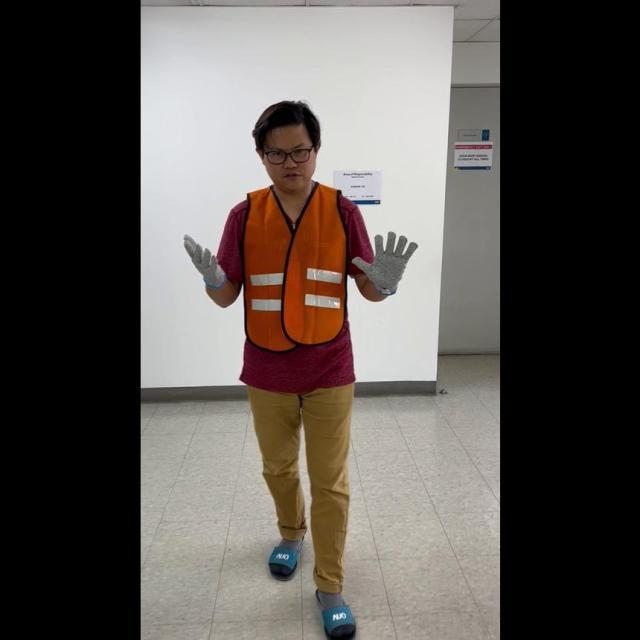gloved_hand: (349, 227, 417, 292), (180, 228, 227, 287)
